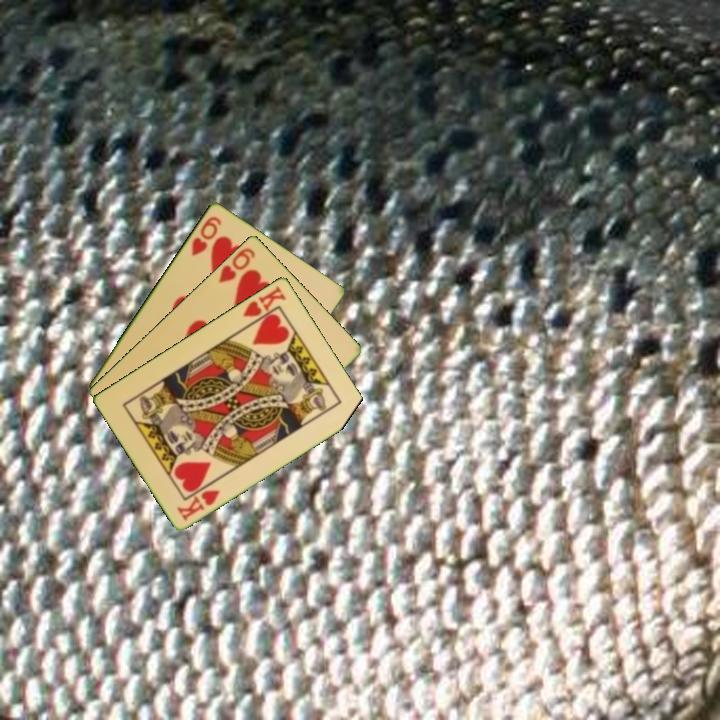6h: (215, 244, 258, 286), (188, 212, 224, 259)
Kh: (239, 282, 289, 329), (173, 486, 223, 523)
